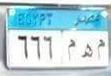6: (42, 36, 56, 61), (30, 36, 42, 60), (17, 34, 28, 60)
haa: (81, 42, 93, 61)
meem: (65, 37, 76, 62), (96, 37, 105, 60)
